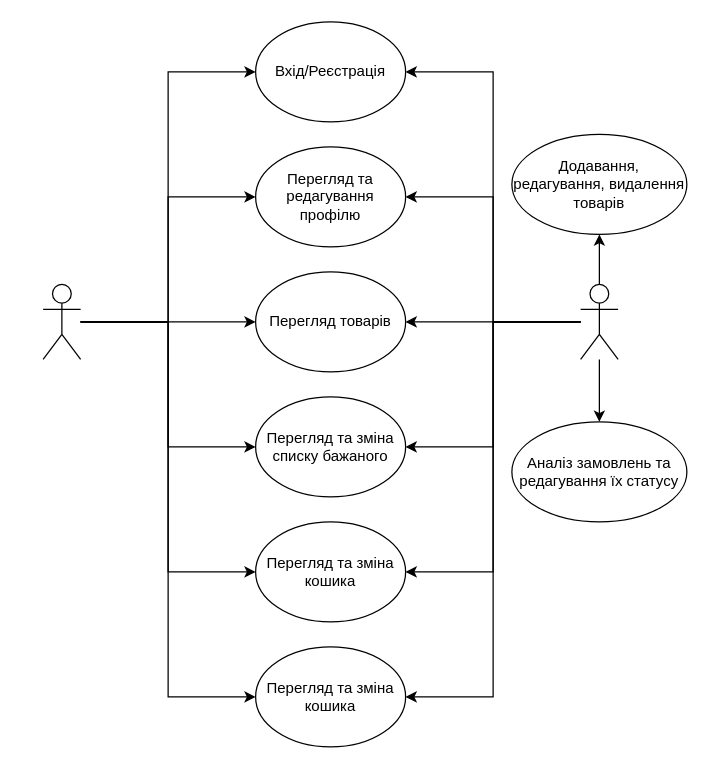
The diagram is 709 pixels wide and 769 high, and some of its shapes have lost their labels. The shapes that lost their labels are listed below. From the top down, each one's centre as x and y in pixels, then its label:
At point 61,321: "Користувач".
At point 598,321: "Адміністратор".
